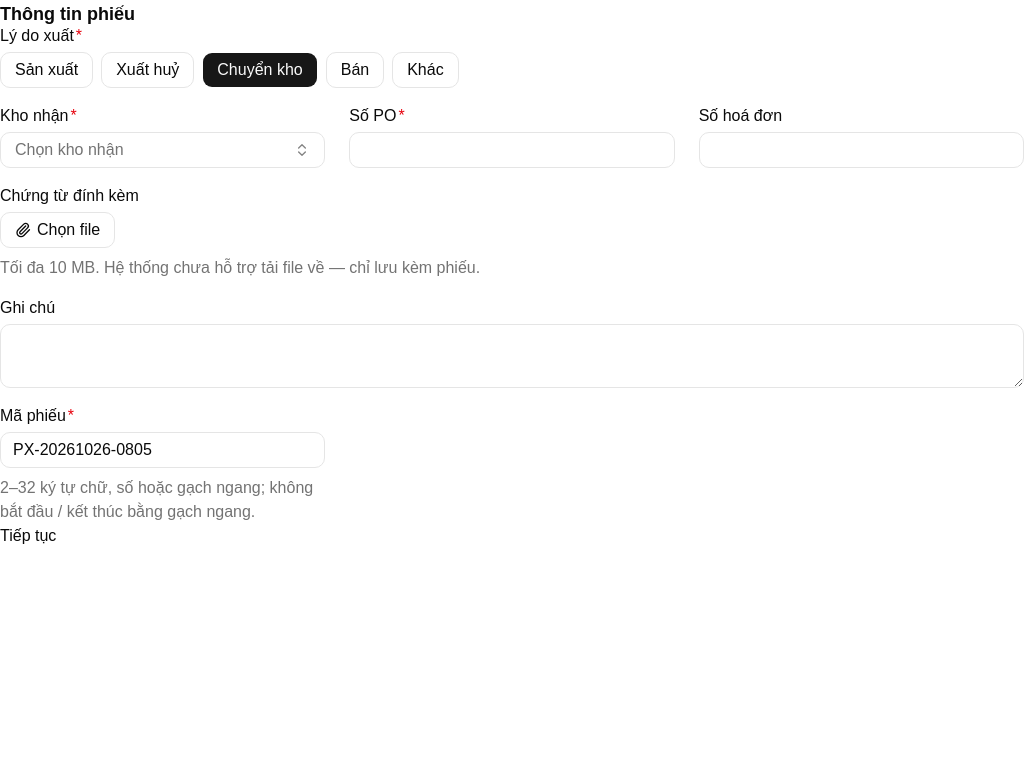
Test: ExportFormInfoStep › Chuyển kho (có quyền) → ô chọn kho, không có kho hiện tại / kho ngừng; chọn kho → receiver
Click the dropdown labelled "Chọn kho nhận": point(69, 150) [0,132,325,168]
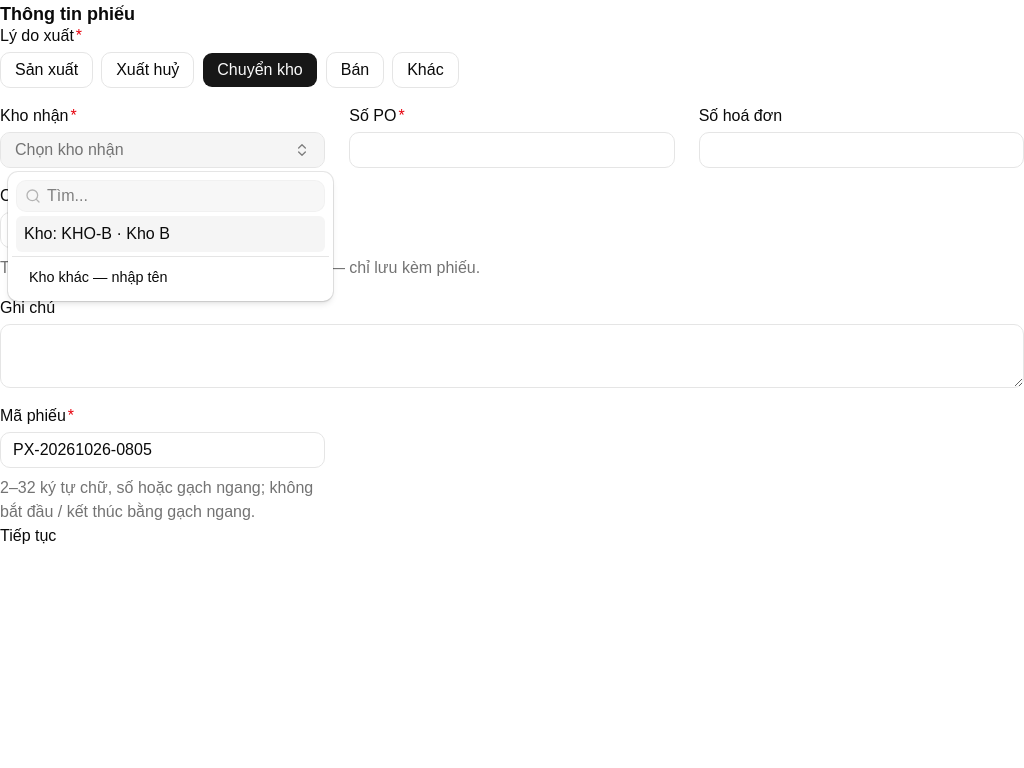
expect the option "Kho: KHO-B · Kho B" is shown: met
Click the option "Kho: KHO-B · Kho B": point(171, 234) [16,216,325,252]
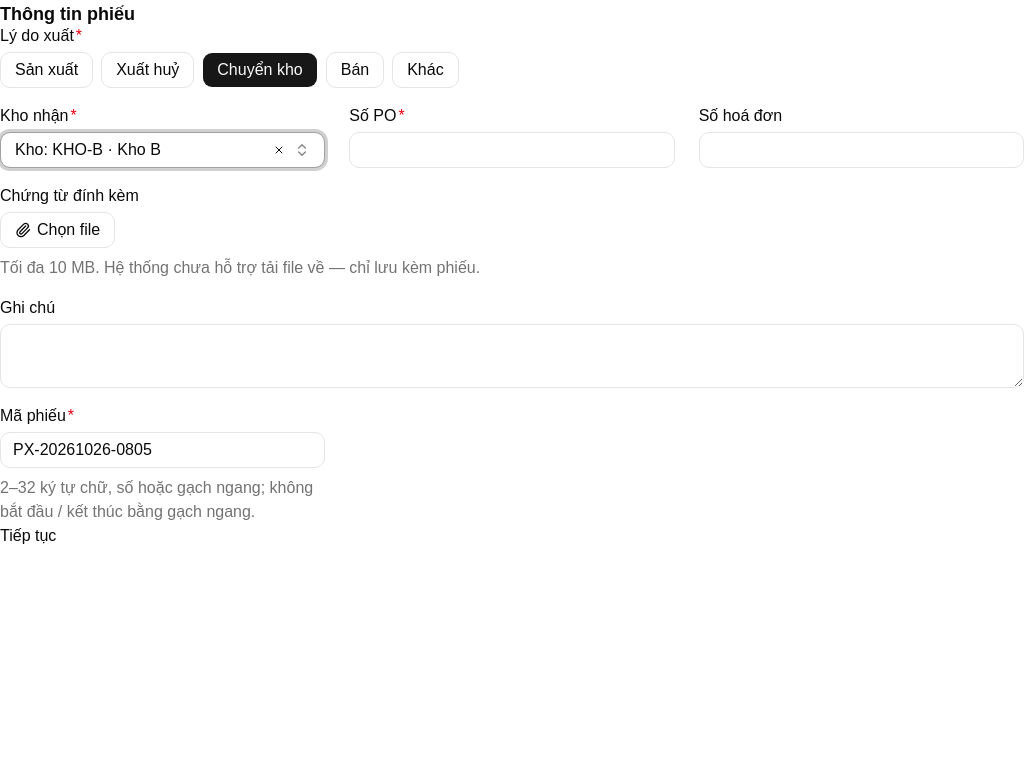
expect the text "Kho: KHO-B · Kho B" is shown: met, box [15,138,161,162]
